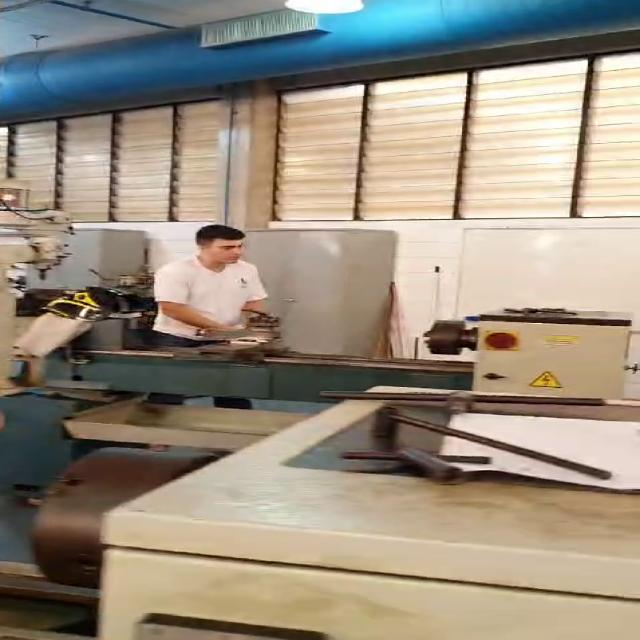sem_oculos: (200, 236, 246, 258)
